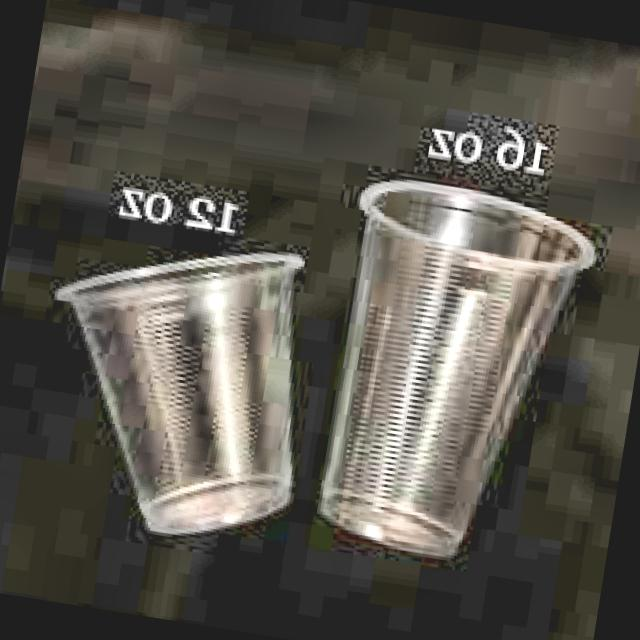plastic cup: (319, 181, 595, 554), (58, 256, 299, 533)
